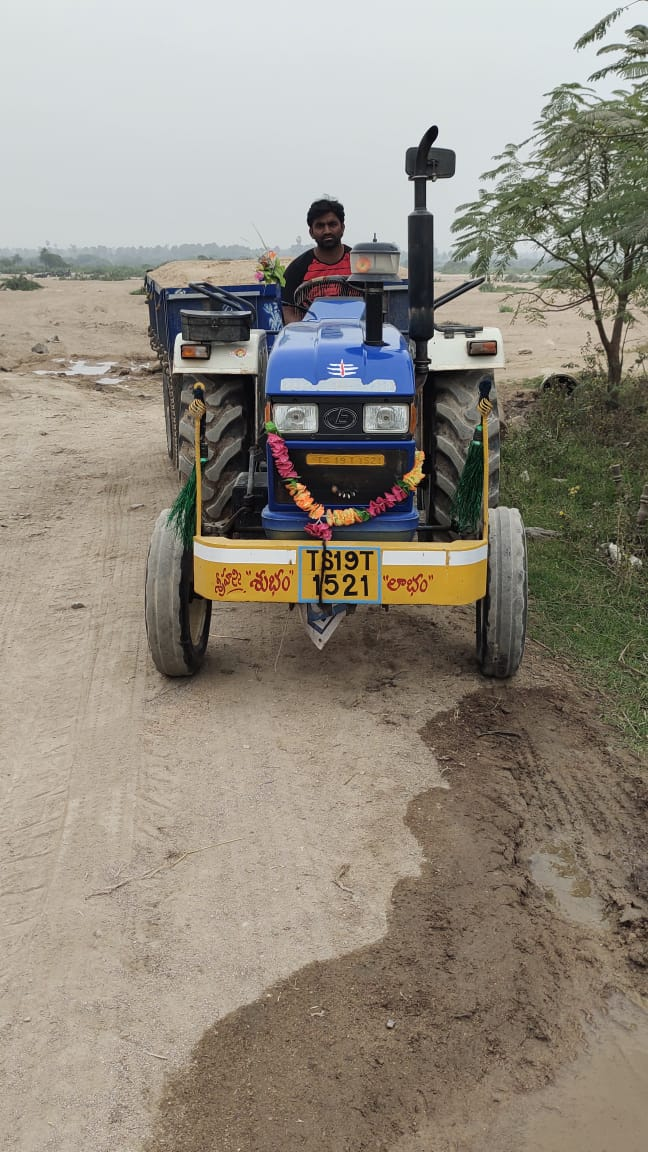license_plate: (296, 542, 382, 607)
